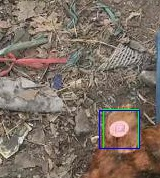text: (103, 109, 138, 148)
